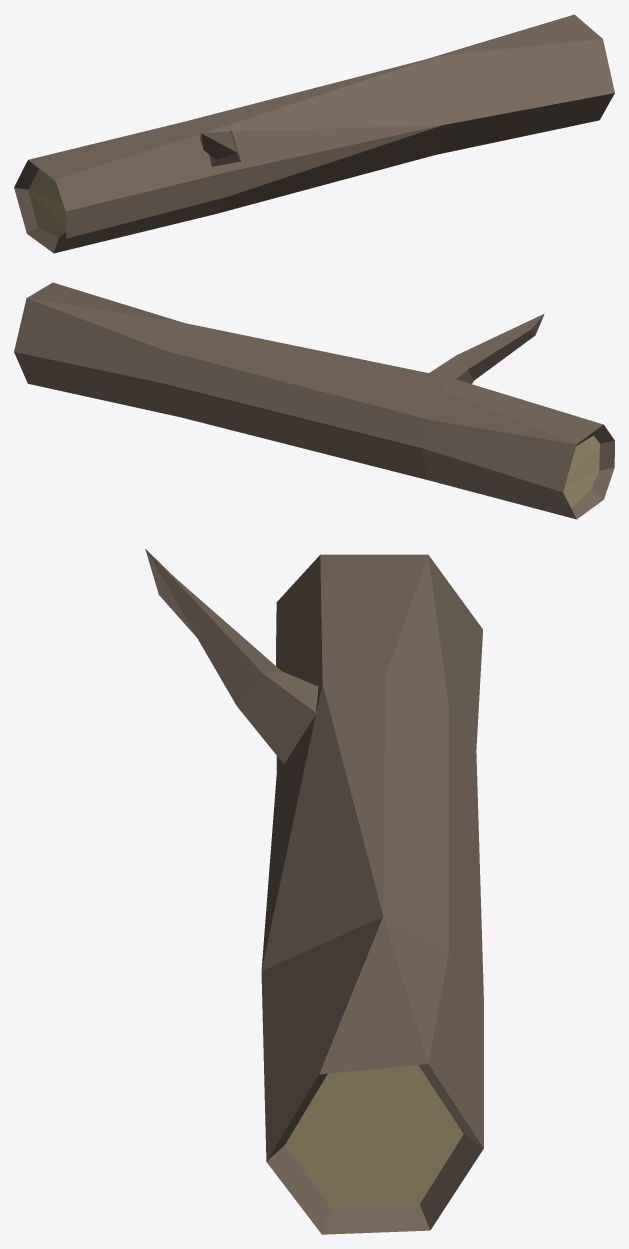
Rendered from fallentreenew.fbx.
3 views of the same model, one above another, from view 1: azimuth 30°, elevation 25°; view 2: azimuth 150°, elevation 25°; view 3: azimuth 270°, elevation 25° (orthographic). The views are drawn at different scales.
Visible parts, largest first — view 1: FALLENTREENEW; view 2: FALLENTREENEW; view 3: FALLENTREENEW.
Part boxes in pixels (bbox=[...]): FALLENTREENEW: bbox=[14, 14, 614, 253]; FALLENTREENEW: bbox=[14, 282, 614, 519]; FALLENTREENEW: bbox=[145, 549, 483, 1234].
Bounding box in the file's own units: 334 × 74.16 × 89.45.
